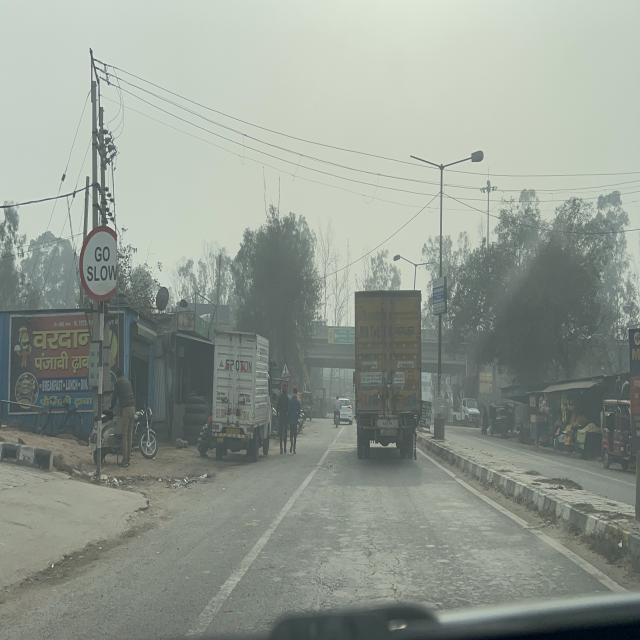GO_SLOW: (79, 224, 121, 300)
PEDESTRIAN_CROSSING: (281, 362, 291, 379)
